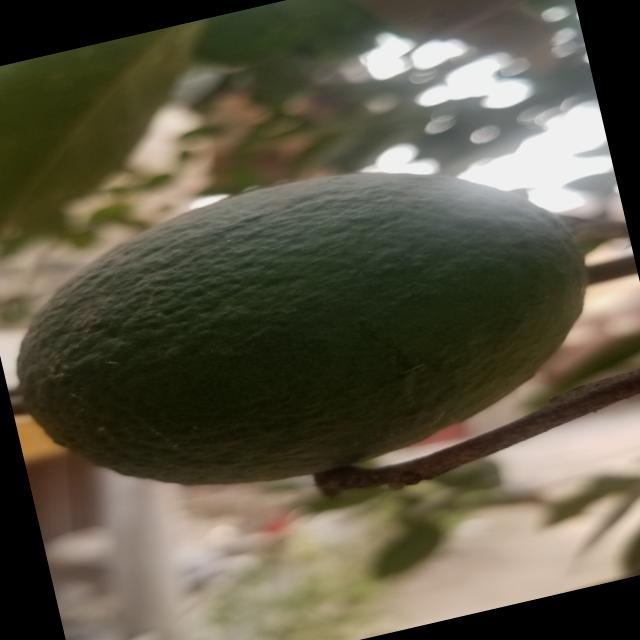Unripe: (0, 118, 623, 533)
